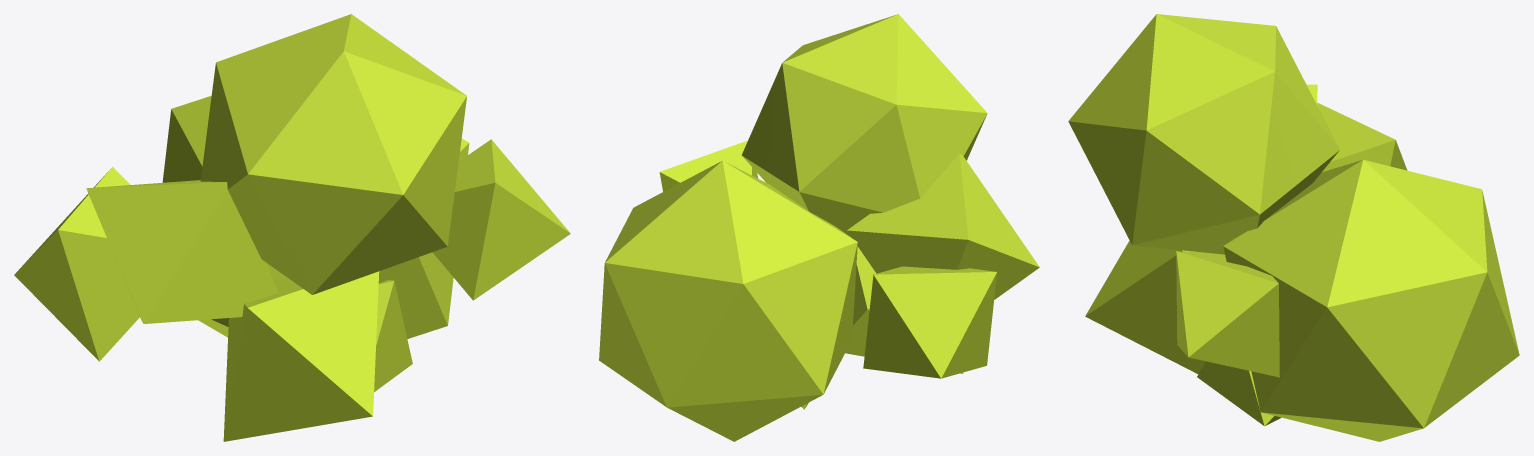
The model's file is Plant_2.fbx.
3 renders of one model, left to right at view 1: azimuth 30°, elevation 25°; view 2: azimuth 150°, elevation 25°; view 3: azimuth 270°, elevation 25°, orthographic. The views are drawn at different scales.
Visible parts, largest first — view 1: Plant_2; view 2: Plant_2; view 3: Plant_2.
Part boxes in pixels (bbox=[...]): Plant_2: bbox=[14, 14, 570, 441]; Plant_2: bbox=[599, 14, 1039, 441]; Plant_2: bbox=[1068, 14, 1519, 441].
Size of the model in its own units: 0.7247 by 0.6708 by 0.6933.
